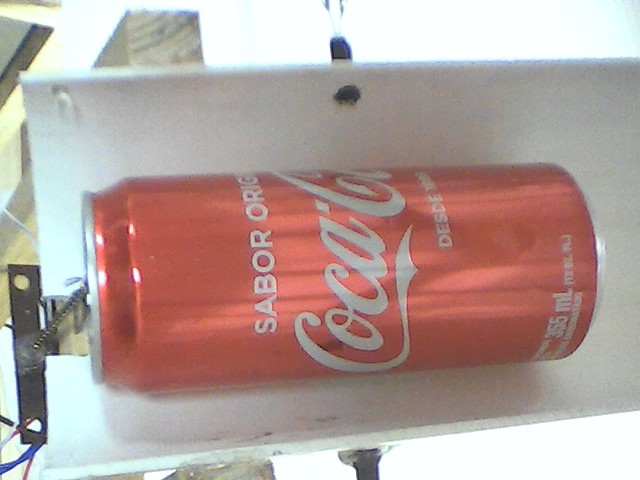lata: (78, 159, 618, 394)
